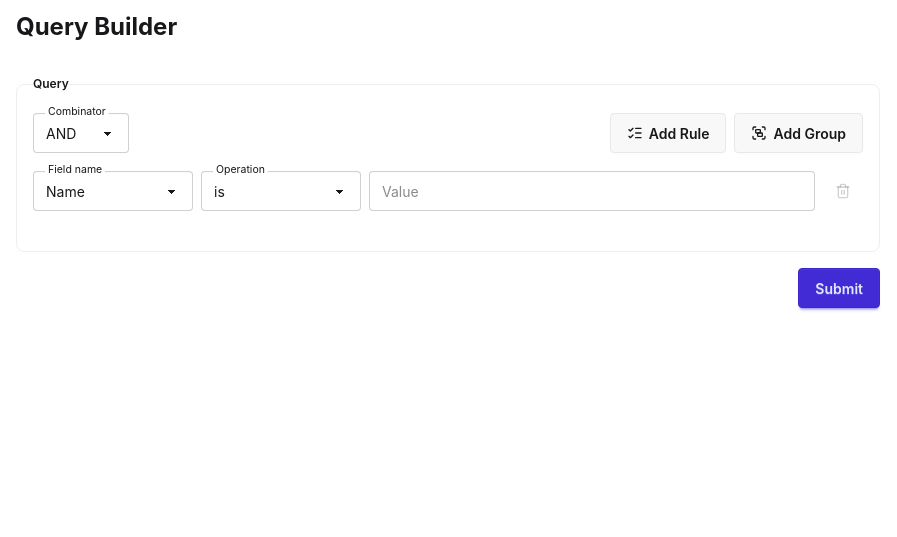
Test: building the query › a group that is its parent's only child can't be removed
Click the button "Add Group": coordinates (799, 133) [734,113,863,153]
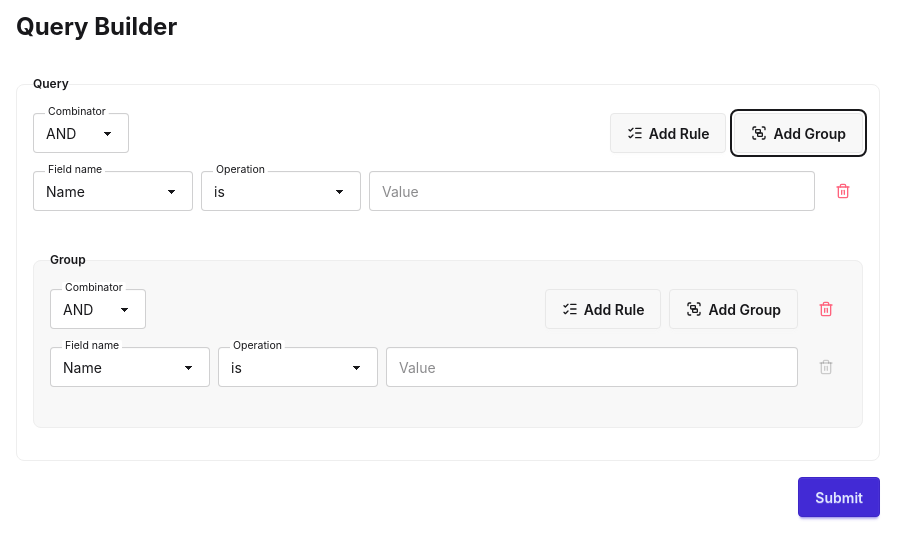
Check: the button named "Remove group 1" is enabled, box [806,289,846,329]
Click the 1st button named "Remove rule 1": coordinates (843, 191) [823,171,863,211]
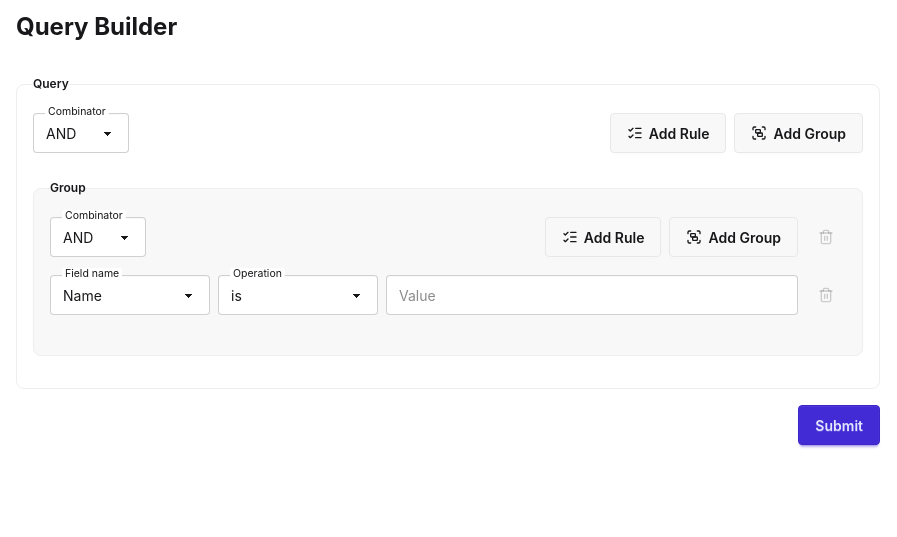
Check: the button named "Remove group 1" is disabled, box [806,217,846,257]
